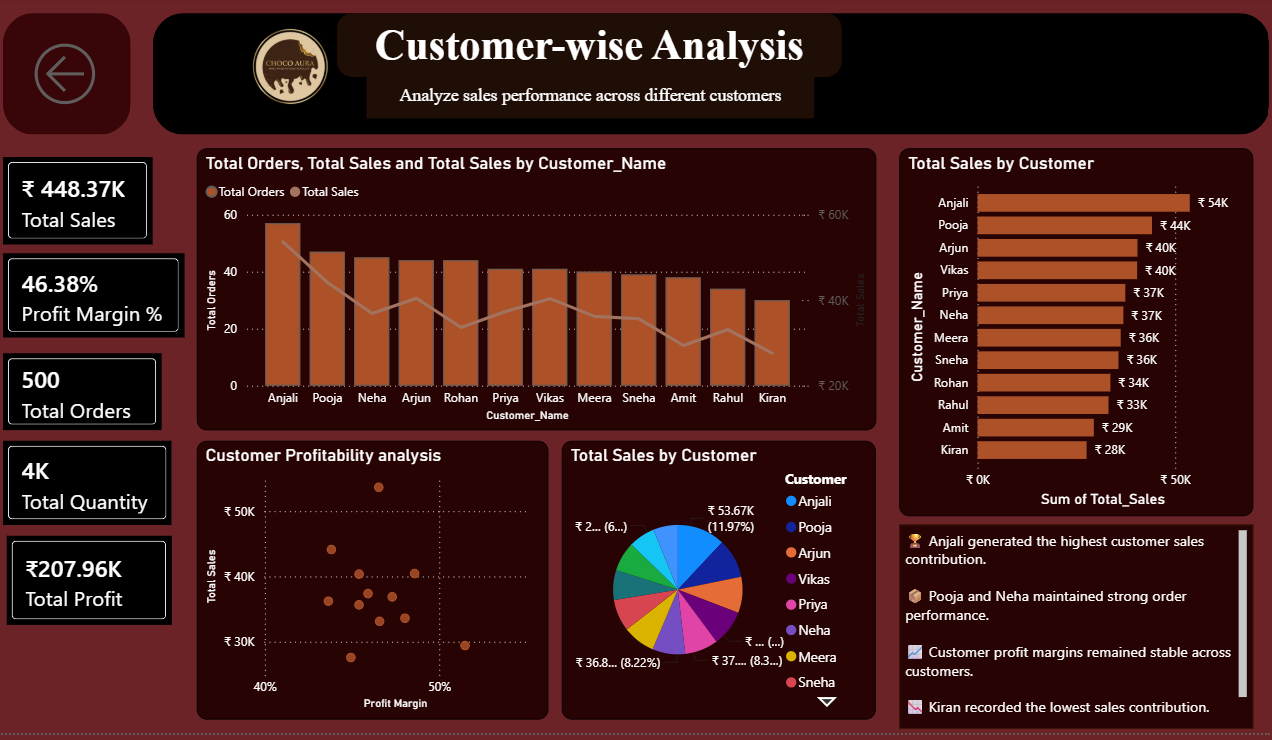

The page's visual inventory and layout, read from the dashboard file:
{"tool":"powerbi","page":{"name":"Customer-wise analysis","canvas":[1280,720],"ordinal":4},"visuals":[{"type":"shape","box":[161.2,16.2,1092.5,118.8],"z":0},{"type":"shape","box":[14.7,15.9,124.7,118.6],"z":1000},{"type":"actionButton","box":[37.9,37.9,78.3,74.6],"z":2000},{"type":"shape","box":[341.2,15.9,494,62.4],"z":3000},{"type":"image","box":[221.3,0,149.2,135.7],"z":4000},{"type":"shape","box":[370.5,74.6,437.8,44],"z":5000},{"type":"cardVisual","fields":{"Data":["Sum(Sales_Data.Total_Sales)"]},"box":[14.7,156.5,146.7,85.6],"z":6000},{"type":"cardVisual","fields":{"Data":["Sales_Data.Profit Margin %"]},"box":[15,251.2,177.5,82.5],"z":7000},{"type":"cardVisual","fields":{"Data":["Sales_Data.Total Orders"]},"box":[15,348.8,155,75],"z":8000},{"type":"cardVisual","fields":{"Data":["Sales_Data.Total Quantity Sold"]},"box":[15,433.8,165,82.5],"z":9000},{"type":"cardVisual","fields":{"Data":["Sales_Data.Total Profit"]},"box":[18.8,527.5,161.2,87.5],"z":10000},{"type":"barChart","title":" Total Sales by Customer","fields":{"Category":["Sales_Data.Customer_Name"],"Y":["Sum(Sales_Data.Total_Sales)"]},"box":[891.2,147.5,346.2,360],"z":11000},{"type":"pieChart","fields":{"Y":["Sum(Sales_Data.Total_Sales)"],"Category":["Sales_Data.Customer_Name"]},"box":[561.2,433.8,307.5,272.5],"z":12000},{"type":"lineClusteredColumnComboChart","fields":{"Y":["Sales_Data.Total Orders"],"Category":["Sales_Data.Customer_Name"],"Y2":["Sum(Sales_Data.Total_Sales)"]},"box":[203.8,147.5,665,276.2],"z":13000},{"type":"scatterChart","title":"Customer Profitability analysis","fields":{"Category":["Sales_Data.Customer_Name"],"X":["Sales_Data.Profit Margin"],"Y":["Sum(Sales_Data.Total_Sales)"]},"box":[203.8,433.8,343.8,272.5],"z":14000},{"type":"textbox","box":[891.2,516.2,346.2,200],"z":15000}]}

Visuals, with their boxes on the page's 1280x720 design canvas (x1, y1, x2, y2). These are canvas units, not pixel positions in the 1272x740 screenshot, which may show the page scaled, cropped or inside an application window:
shape: <bbox>161, 16, 1254, 135</bbox>
shape: <bbox>15, 16, 139, 134</bbox>
actionButton: <bbox>38, 38, 116, 112</bbox>
shape: <bbox>341, 16, 835, 78</bbox>
image: <bbox>221, 0, 370, 136</bbox>
shape: <bbox>370, 75, 808, 119</bbox>
cardVisual - Sum(Sales_Data.Total_Sales): <bbox>15, 156, 161, 242</bbox>
cardVisual - Sales_Data.Profit Margin %: <bbox>15, 251, 192, 334</bbox>
cardVisual - Sales_Data.Total Orders: <bbox>15, 349, 170, 424</bbox>
cardVisual - Sales_Data.Total Quantity Sold: <bbox>15, 434, 180, 516</bbox>
cardVisual - Sales_Data.Total Profit: <bbox>19, 528, 180, 615</bbox>
" Total Sales by Customer" barChart: <bbox>891, 148, 1237, 508</bbox>
pieChart - Sum(Sales_Data.Total_Sales) x Sales_Data.Customer_Name: <bbox>561, 434, 869, 706</bbox>
lineClusteredColumnComboChart - Sales_Data.Total Orders x Sales_Data.Customer_Name: <bbox>204, 148, 869, 424</bbox>
"Customer Profitability analysis" scatterChart: <bbox>204, 434, 548, 706</bbox>
textbox: <bbox>891, 516, 1237, 716</bbox>
